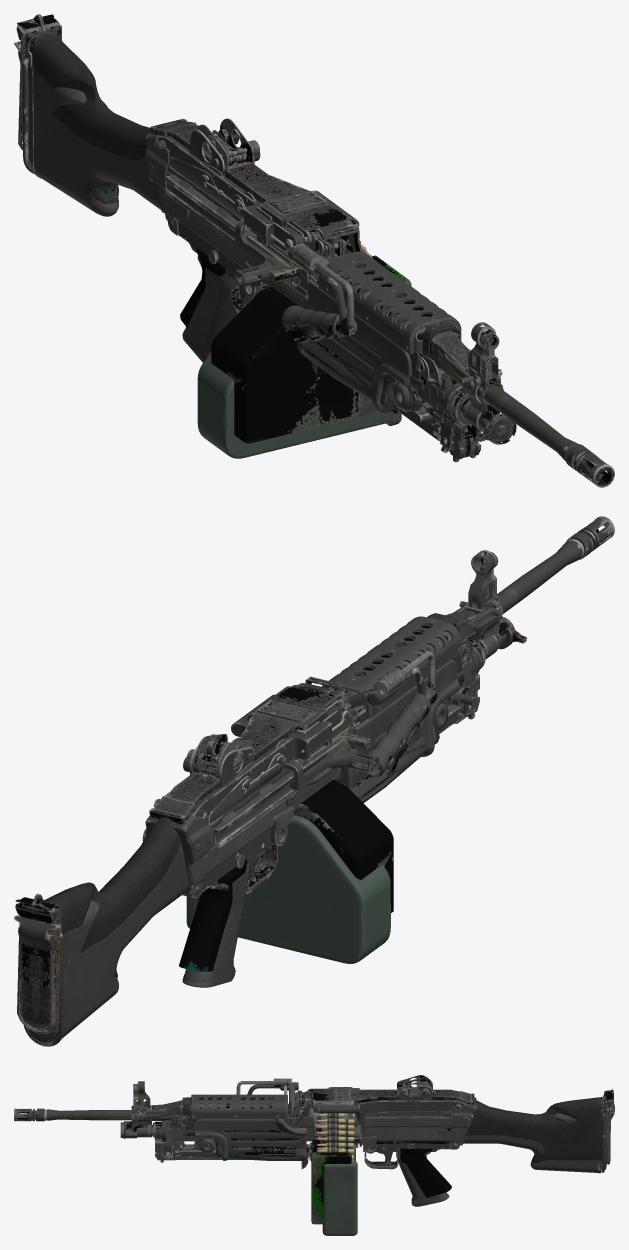
3 views of the same model, one above another, from view 1: azimuth 30°, elevation 25°; view 2: azimuth 150°, elevation 25°; view 3: azimuth 270°, elevation 25° (orthographic). The views are drawn at different scales.
Parts seen in each view (by area): view 1: weapons\models\m249\weapon_mach_m249.vmdl_c.body_legacy; view 2: weapons\models\m249\weapon_mach_m249.vmdl_c.body_legacy; view 3: weapons\models\m249\weapon_mach_m249.vmdl_c.body_legacy.
Boxes of the visible parts, box(x1,y1,x2,y2) form: weapons\models\m249\weapon_mach_m249.vmdl_c.body_legacy: box(14, 14, 614, 487); weapons\models\m249\weapon_mach_m249.vmdl_c.body_legacy: box(14, 516, 614, 1046); weapons\models\m249\weapon_mach_m249.vmdl_c.body_legacy: box(14, 1075, 614, 1235).
Bounding box in the file's own units: 0.2172 × 0.3009 × 1.21.
2 materials, 2 textured.
